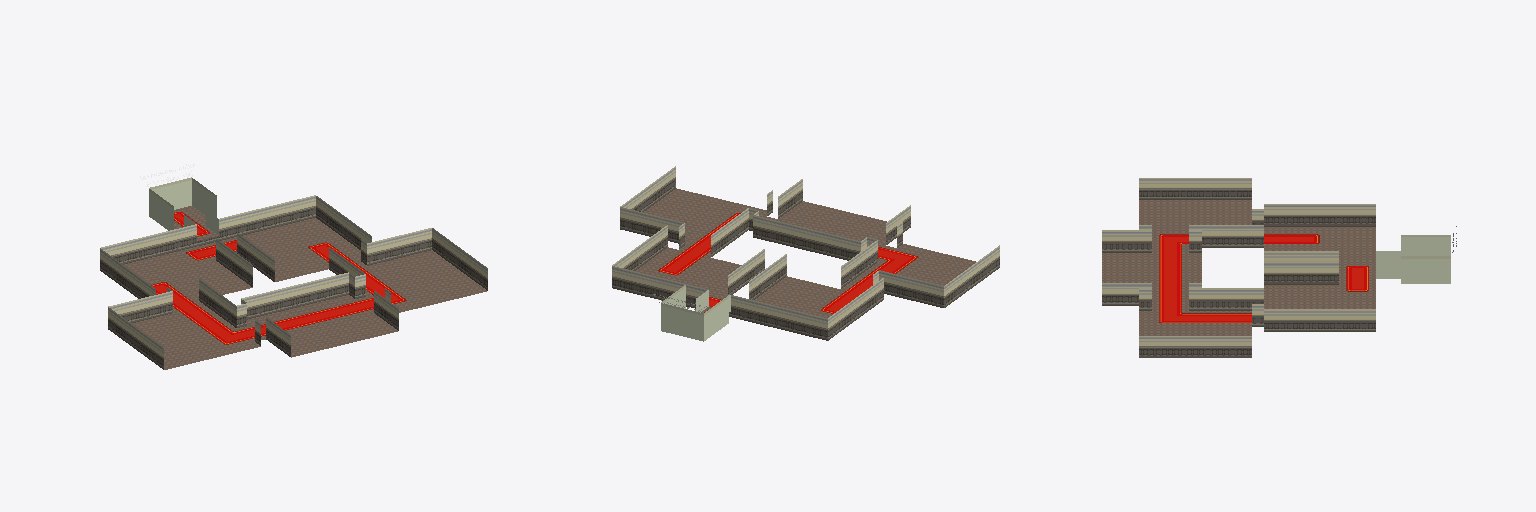
3 renders of one model, left to right at view 1: azimuth 30°, elevation 25°; view 2: azimuth 150°, elevation 25°; view 3: azimuth 270°, elevation 25°, orthographic.
Visible parts, largest first — view 1: Walls_Grid.001, Floor_Grid, Rug_Grid.002; view 2: Walls_Grid.001, Floor_Grid, Rug_Grid.002; view 3: Walls_Grid.001, Floor_Grid, Rug_Grid.002.
Boxes of the visible parts, <box> form: Walls_Grid.001: <box>100,177,487,369</box>; Floor_Grid: <box>124,206,486,369</box>; Rug_Grid.002: <box>151,212,406,344</box>; Walls_Grid.001: <box>612,166,999,341</box>; Floor_Grid: <box>636,188,975,317</box>; Rug_Grid.002: <box>658,213,918,313</box>; Walls_Grid.001: <box>1102,178,1450,357</box>; Floor_Grid: <box>1102,200,1375,335</box>; Rug_Grid.002: <box>1159,234,1368,322</box>.
Size of the model in its own units: 30 by 4.12 by 28.53.
Materials: 8 (8 with a texture image).